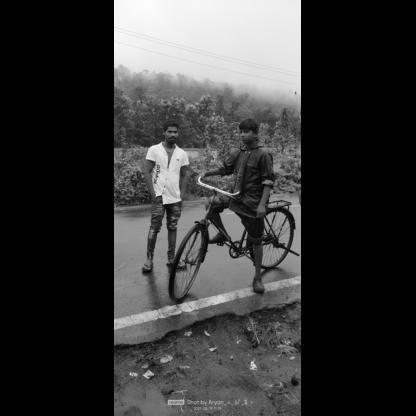Bicycle: (160, 179, 300, 317)
